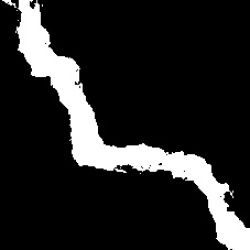crack: (1, 1, 248, 248)
